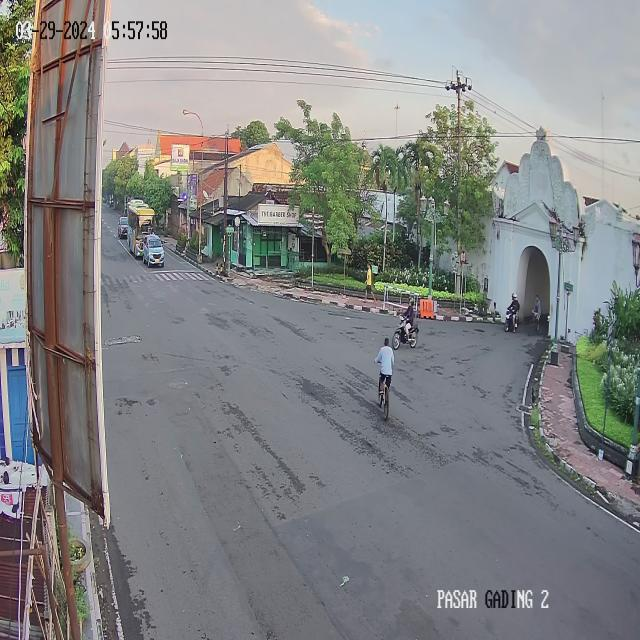bus: (127, 203, 156, 260), (127, 198, 150, 223)
car: (142, 230, 166, 268), (117, 217, 130, 240)
motorcycle: (392, 298, 420, 350), (502, 290, 523, 335)
